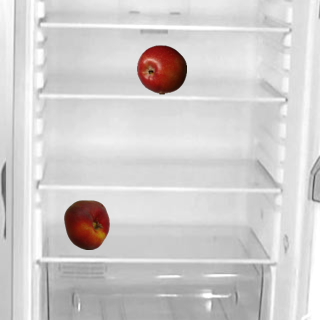Apple Braeburn: (136, 44, 186, 94)
Nectarine Flat: (61, 199, 111, 249)
